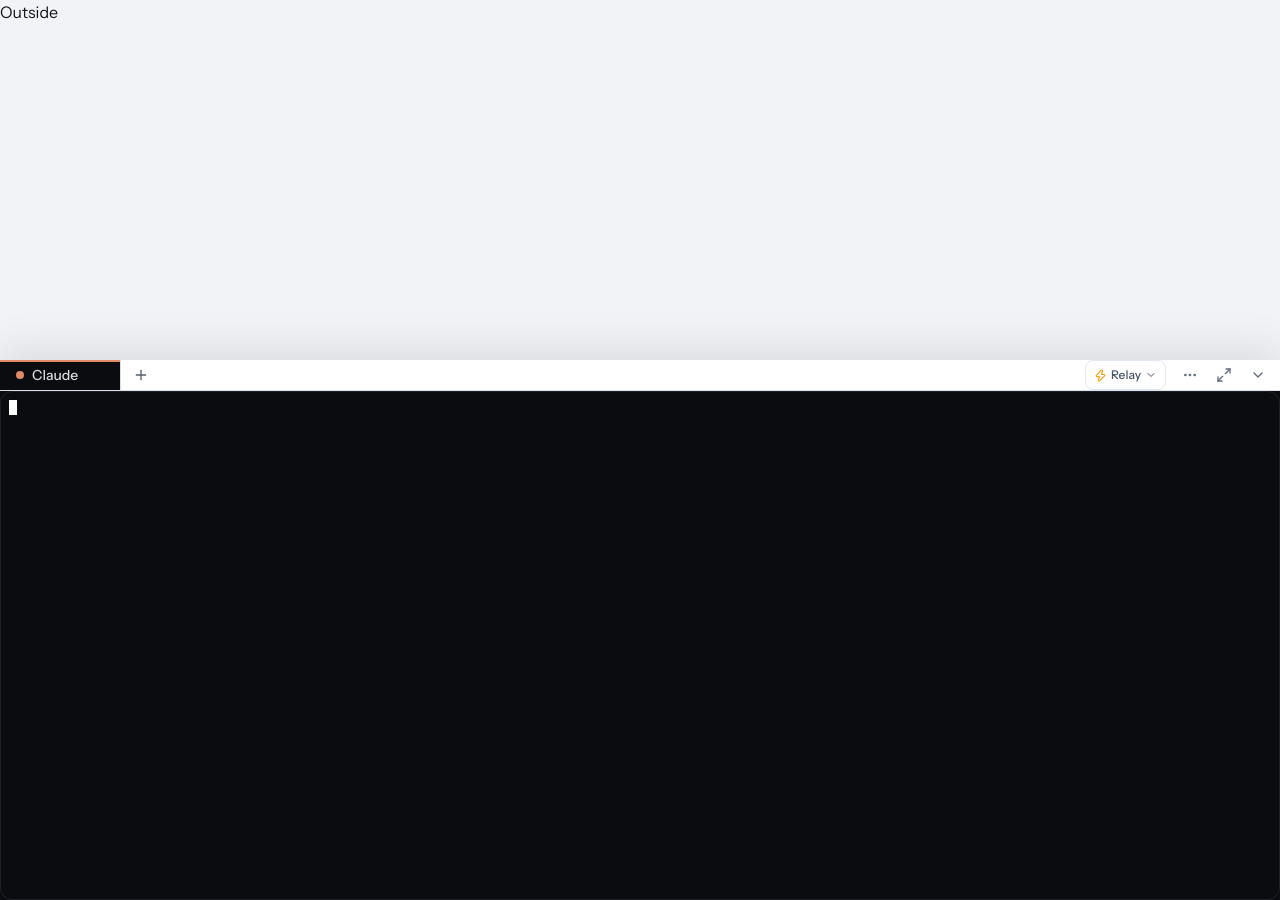
it: GlobalTerminalDrawer › clicking outside closes the handoff dropdown menu
Step 1. Click the button with test id "handoff-button" → click(1126, 375), box [1085,360,1166,390]
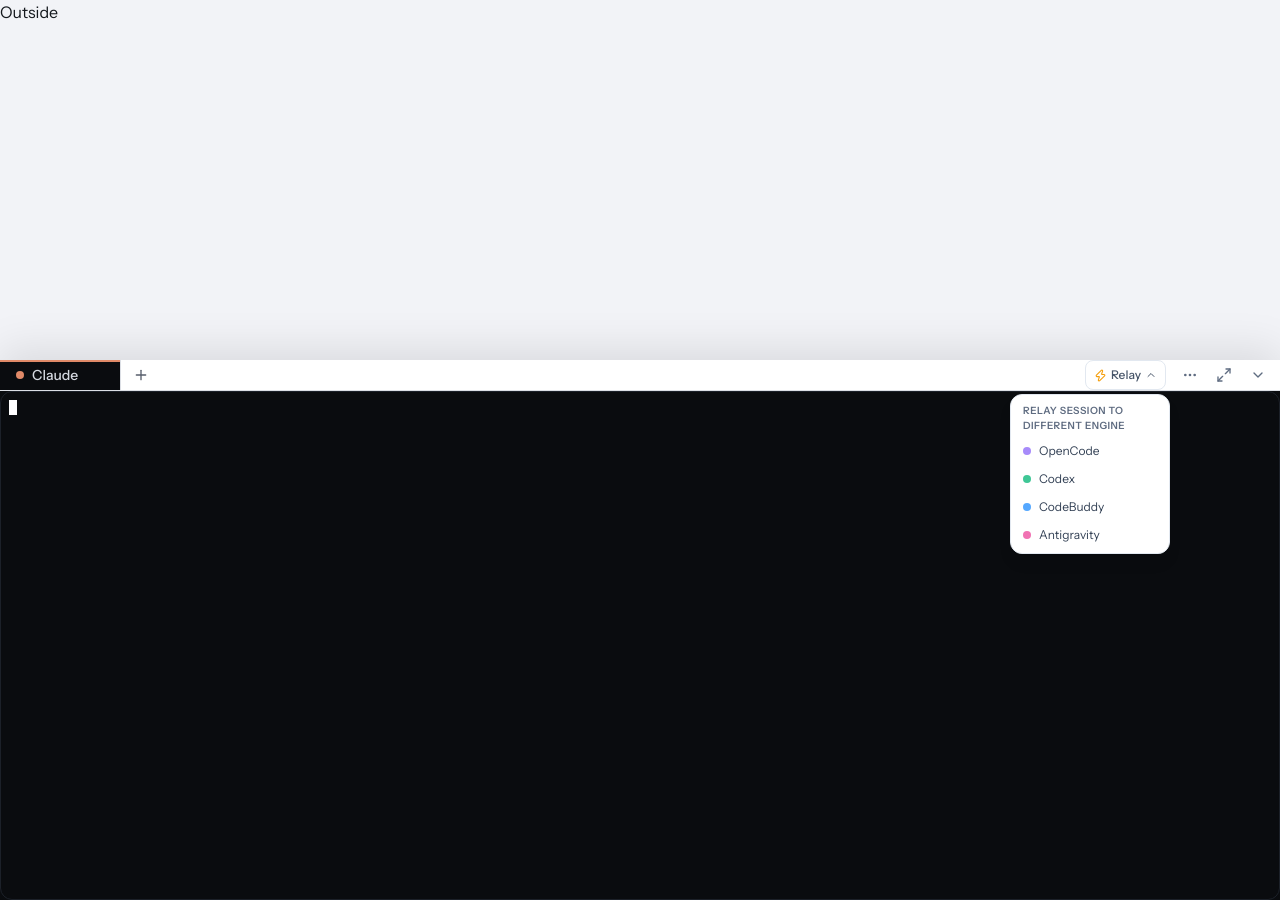
Result: the element with test id "handoff-menu" is shown at [1010,394,1170,554]
# Click outside
Step 2. Press the mouse on the text with test id "outside-area" → (29, 12), box [0,2,58,22]
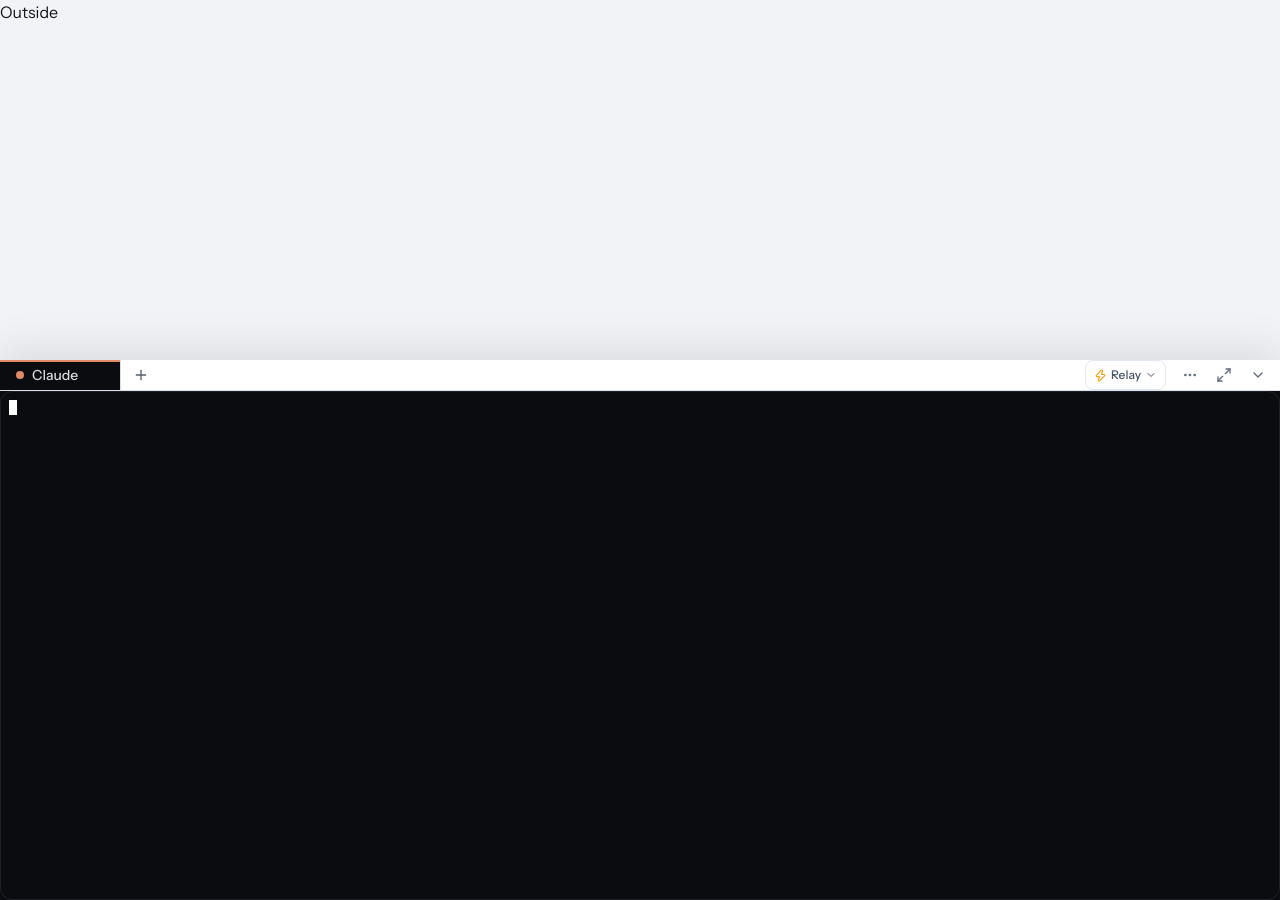
Result: the element with test id "handoff-menu" is gone
